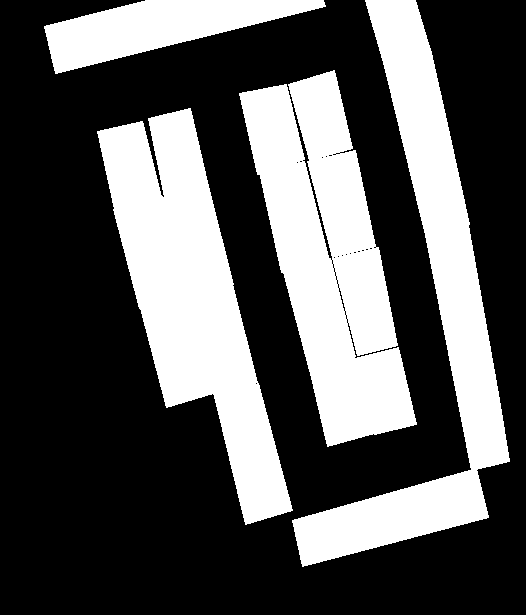parkingspot: (425, 225, 509, 470), (44, 0, 325, 73), (292, 468, 488, 566), (382, 48, 469, 235), (214, 383, 292, 524), (140, 294, 213, 407), (113, 196, 186, 308), (283, 258, 355, 370), (187, 284, 257, 396), (259, 161, 329, 272), (163, 186, 233, 294), (307, 150, 375, 257), (332, 247, 397, 355), (309, 356, 374, 446), (239, 84, 304, 174), (288, 70, 352, 160), (97, 121, 161, 209), (148, 108, 208, 197), (355, 347, 416, 434), (365, 0, 430, 59)
